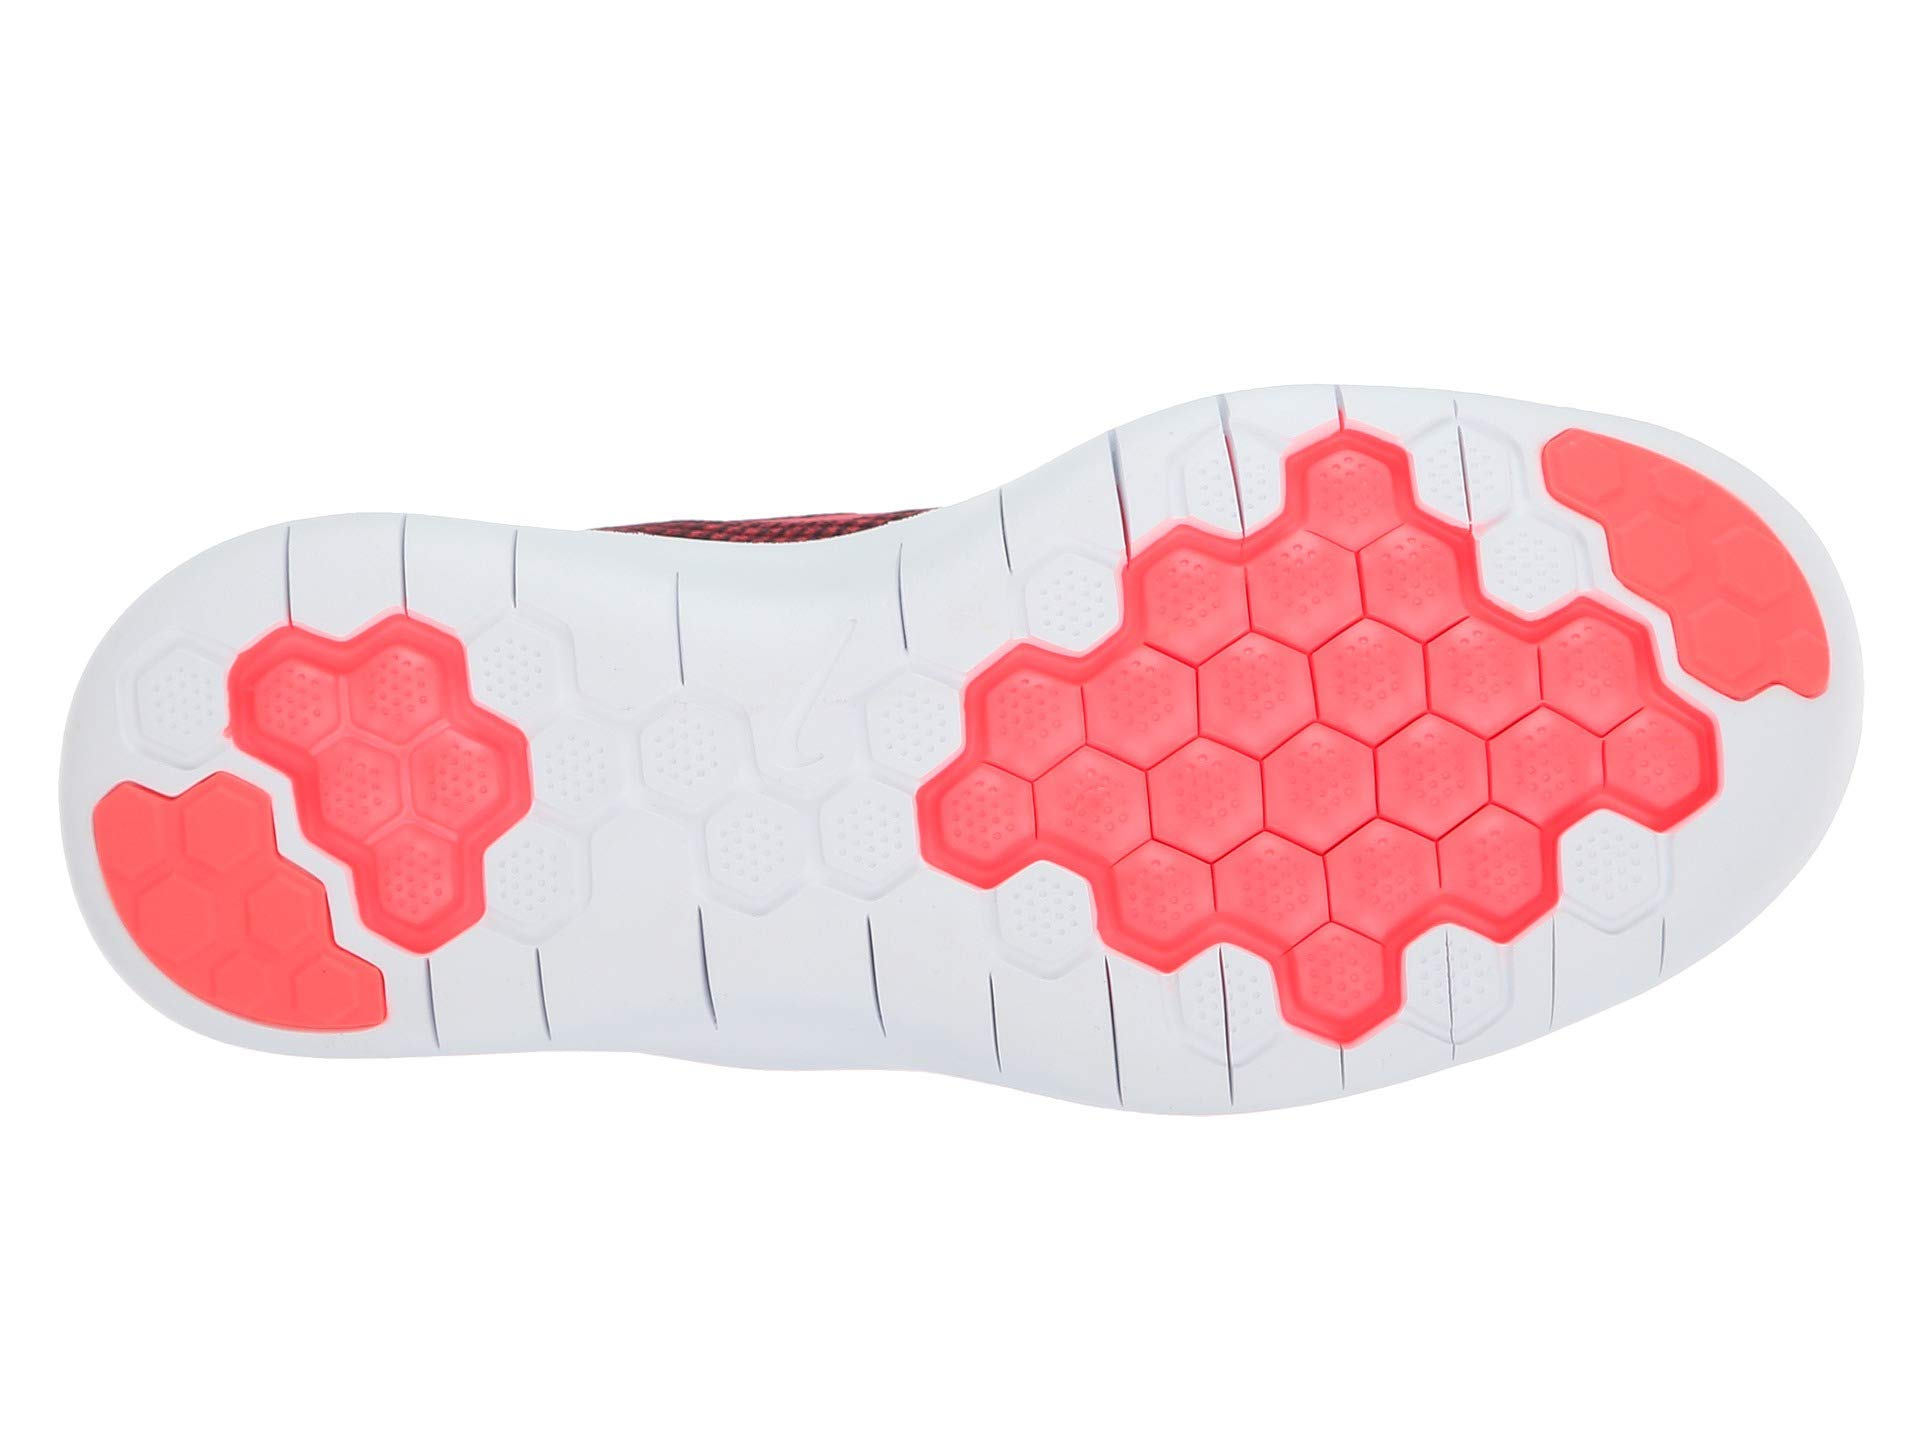circle: (381, 531, 915, 989), (1107, 442, 1583, 947)
line: (381, 531, 915, 989), (1107, 442, 1583, 947)
polygon: (381, 531, 915, 989), (1107, 442, 1583, 947)
